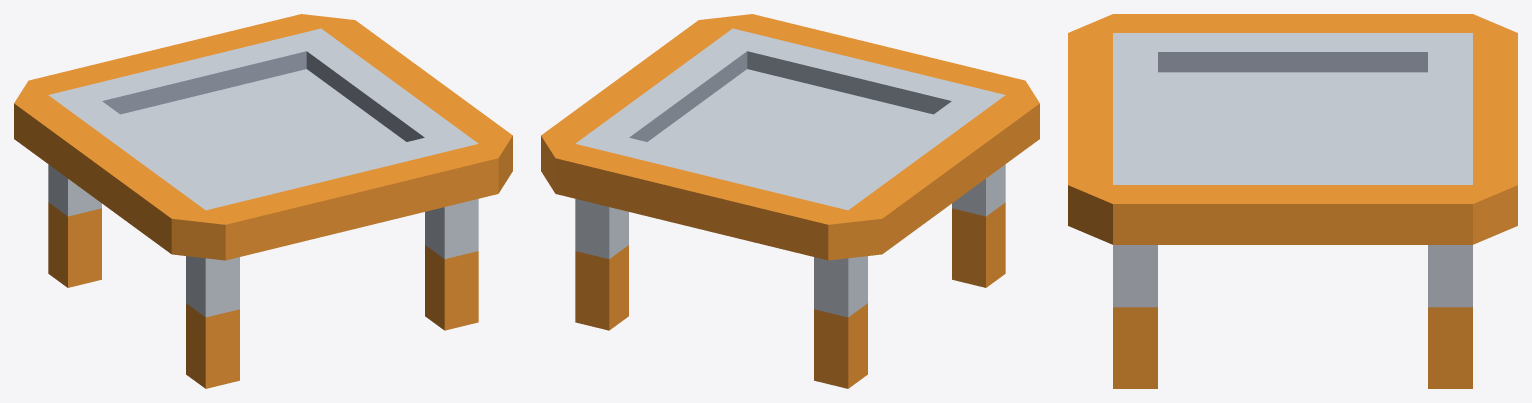
Rendered from platform_low.fbx.
3 views of the same model, side by side, from view 1: azimuth 30°, elevation 25°; view 2: azimuth 150°, elevation 25°; view 3: azimuth 270°, elevation 25° (orthographic). The views are drawn at different scales.
Visible parts, largest first — view 1: platform_low; view 2: platform_low; view 3: platform_low.
Part boxes in pixels (<box>): platform_low: <box>14,14,512,388</box>; platform_low: <box>541,14,1039,388</box>; platform_low: <box>1068,14,1517,388</box>.
Size of the model in its own units: 10 by 5 by 10.
